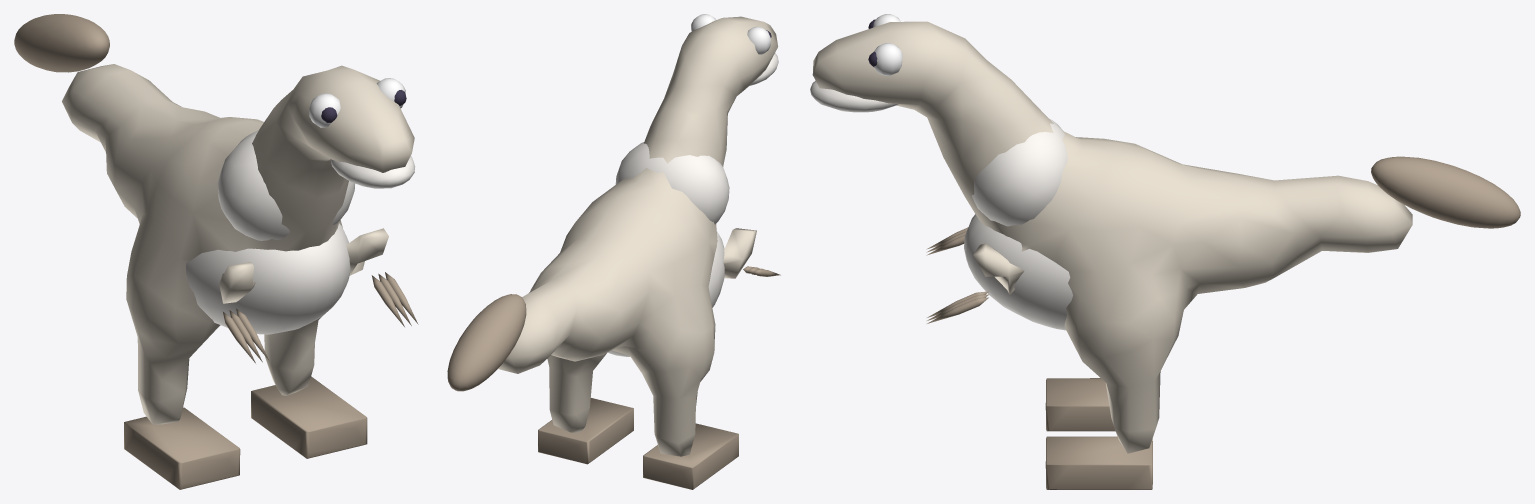
The model's file is Dino_Therizinosaurus.fbx.
The picture shows the model from 3 angles, left to right: view 1: azimuth 30°, elevation 25°; view 2: azimuth 150°, elevation 25°; view 3: azimuth 270°, elevation 25°; orthographic projection. The views are drawn at different scales.
Parts seen in each view (by area): view 1: Body.012, Accent.012, Belly.012, EyeWhite.012; view 2: Body.012, Accent.012, Belly.012, EyeWhite.012; view 3: Body.012, Accent.012, Belly.012, EyeWhite.012.
Boxes of the visible parts, bbox=[...] form: Body.012: bbox=[62, 64, 414, 424]; Accent.012: bbox=[14, 14, 418, 489]; Belly.012: bbox=[186, 130, 415, 334]; EyeWhite.012: bbox=[309, 78, 405, 127]; Body.012: bbox=[498, 16, 778, 456]; Accent.012: bbox=[447, 266, 780, 489]; Belly.012: bbox=[608, 53, 778, 356]; EyeWhite.012: bbox=[691, 14, 770, 54]; Body.012: bbox=[812, 21, 1412, 453]; Accent.012: bbox=[926, 156, 1520, 489]; Belly.012: bbox=[810, 81, 1072, 330]; EyeWhite.012: bbox=[873, 14, 902, 75].
Bounding box in the file's own units: 1.77 × 3.89 × 5.95.
